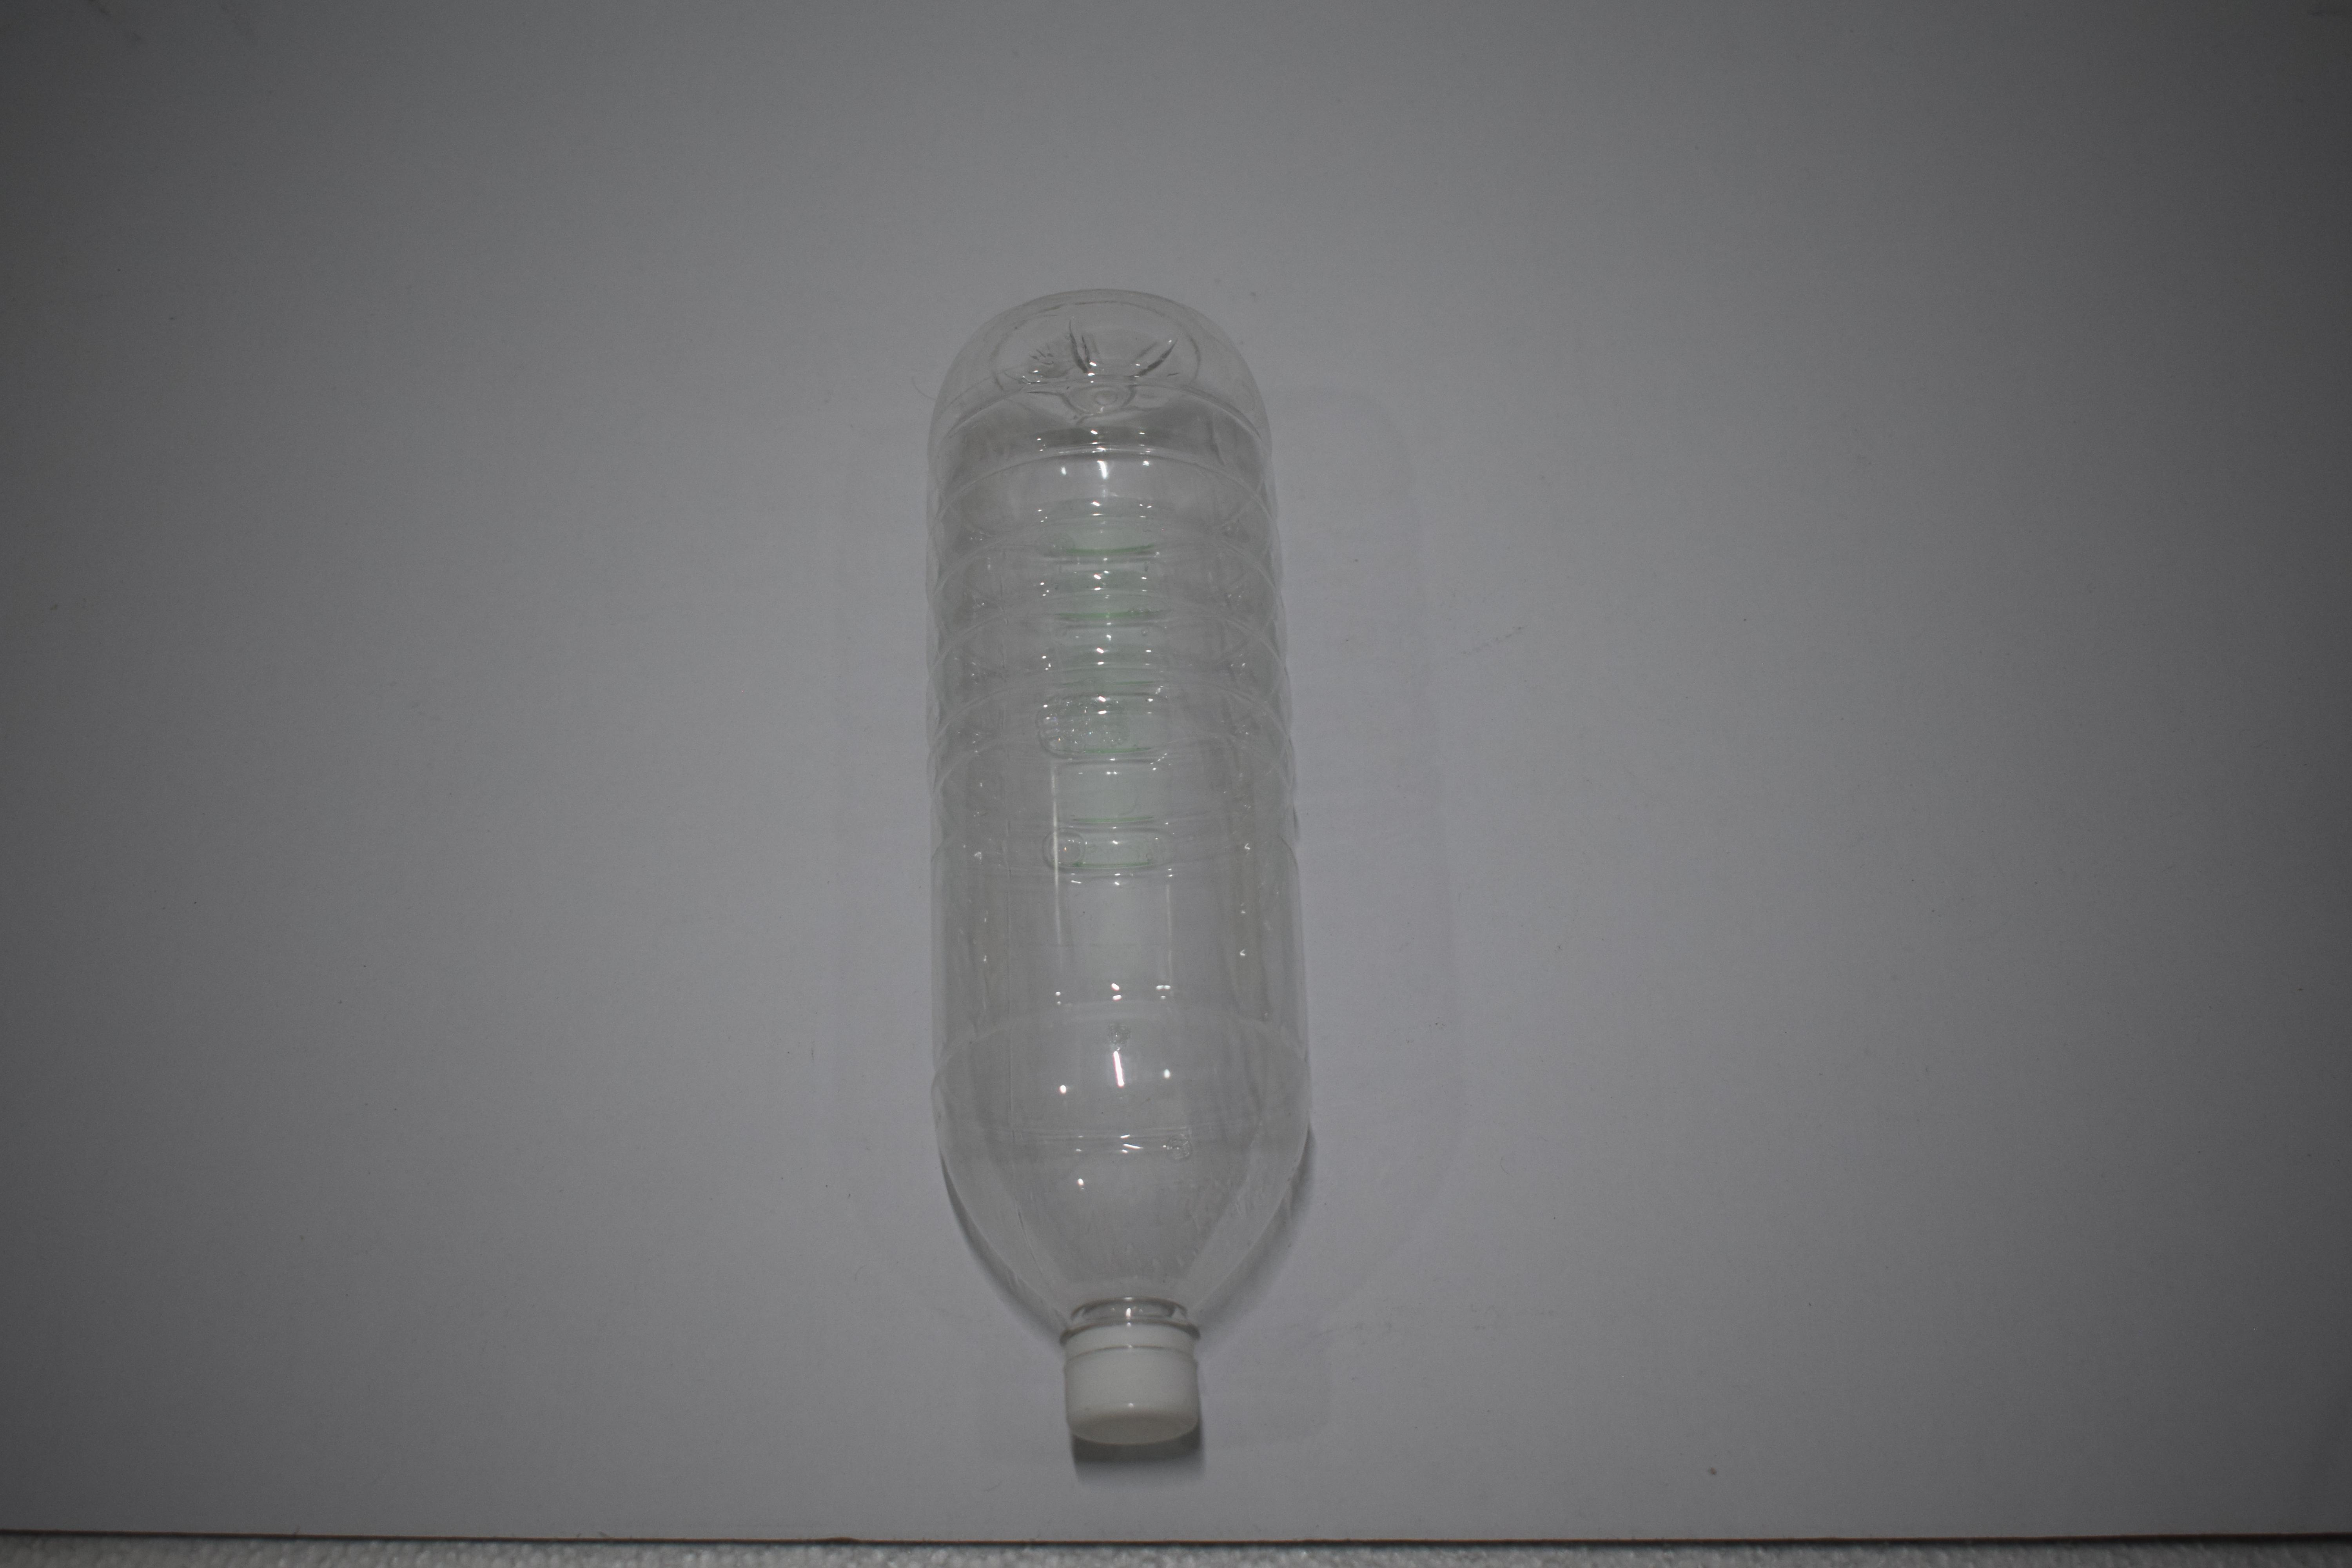bottle: (905, 0, 1309, 549)
